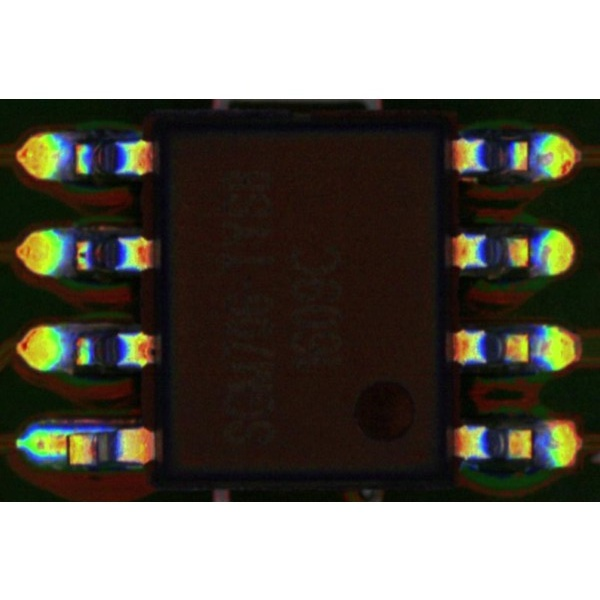Bad_podu: (59, 435, 77, 454)
Bad_qiaojiao: (69, 425, 119, 433)
